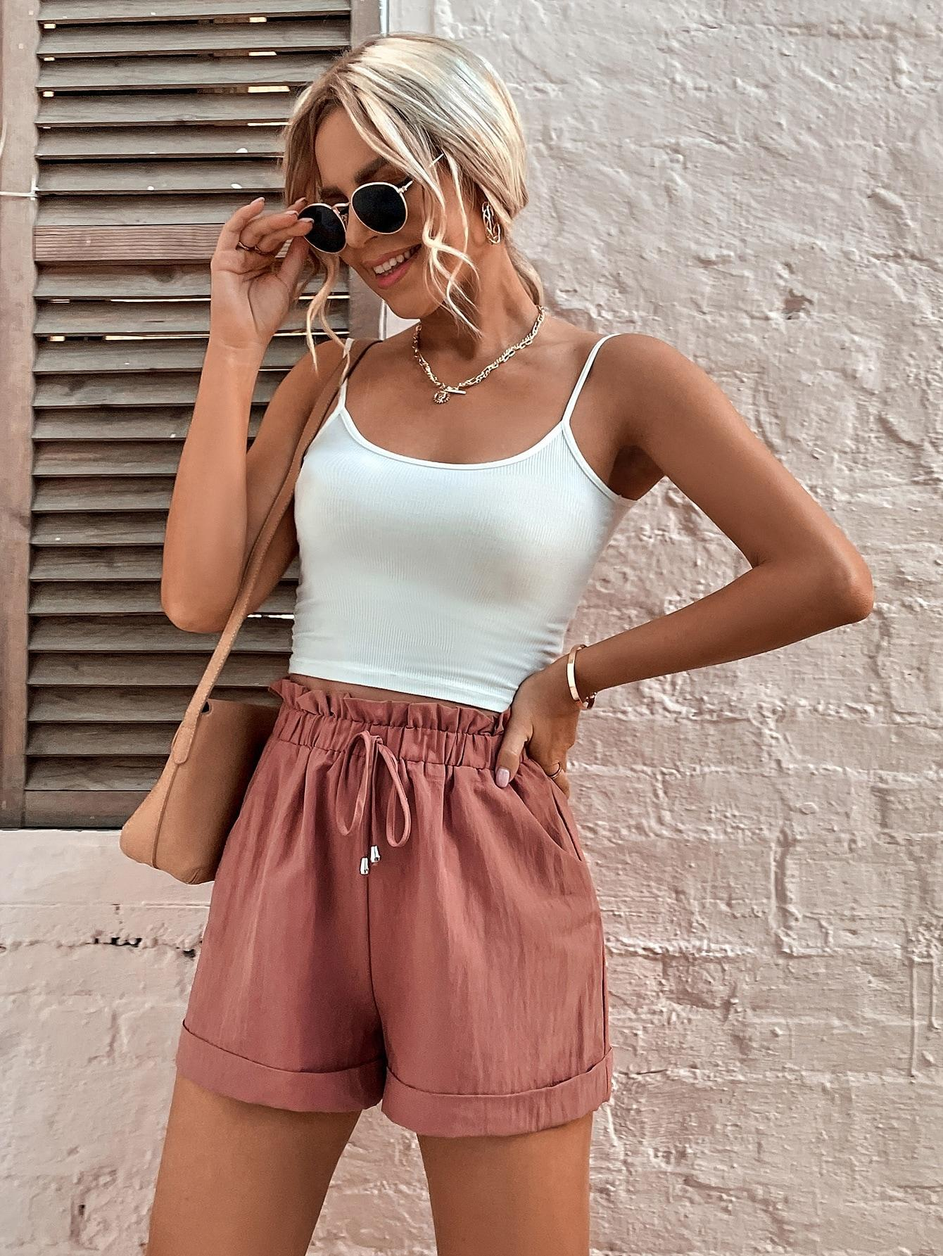Shorts: (164, 683, 627, 1143)
vest: (284, 317, 648, 717)
